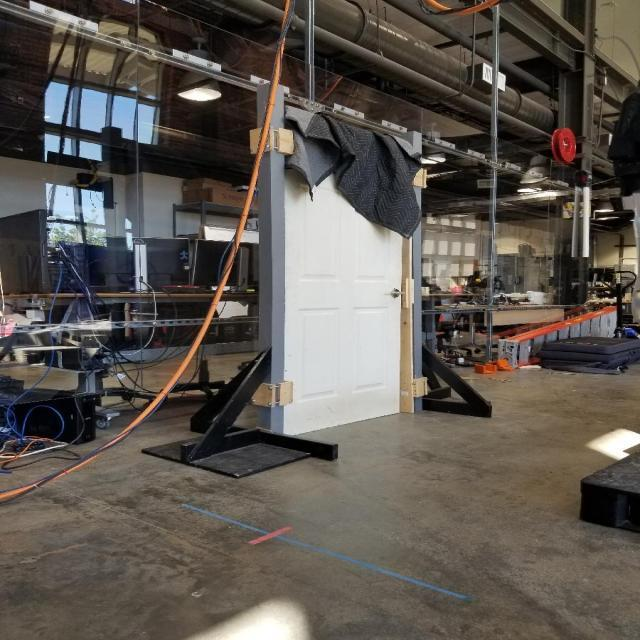door: (282, 104, 406, 437), (384, 288, 406, 298)
